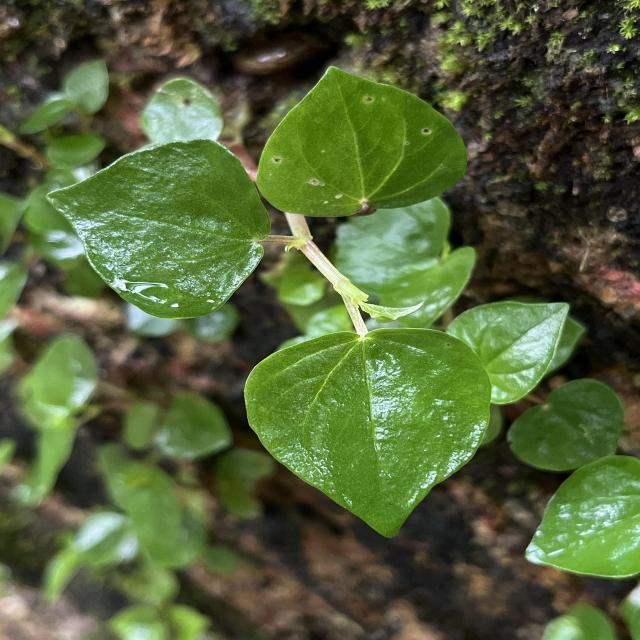Peperomia pellucida: (240, 326, 494, 540), (44, 137, 272, 321), (254, 64, 469, 218)
